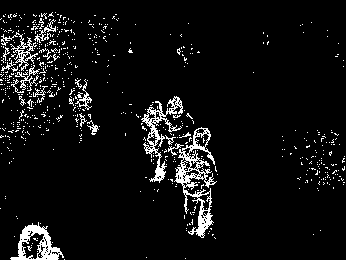person: (174, 126, 219, 240), (141, 99, 172, 183), (164, 94, 195, 161), (69, 75, 99, 144)
